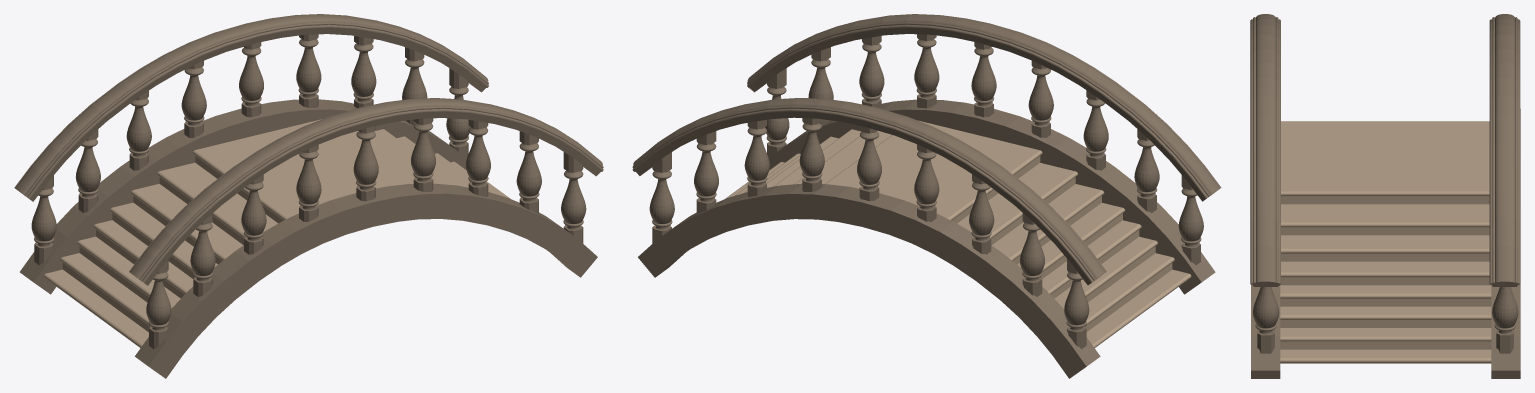
File: garden_bridge 1.fbx
The picture shows the model from 3 angles, left to right: view 1: azimuth 30°, elevation 25°; view 2: azimuth 150°, elevation 25°; view 3: azimuth 270°, elevation 25°; orthographic projection. The views are drawn at different scales.
Parts seen in each view (by area): view 1: polySurface1; view 2: polySurface1; view 3: polySurface1.
Boxes of the visible parts, box(x1,y1,x2,y2) form: polySurface1: box(14, 14, 603, 378); polySurface1: box(632, 14, 1221, 378); polySurface1: box(1250, 14, 1520, 378).
Size of the model in its own units: 3186 by 1398 by 1529.
